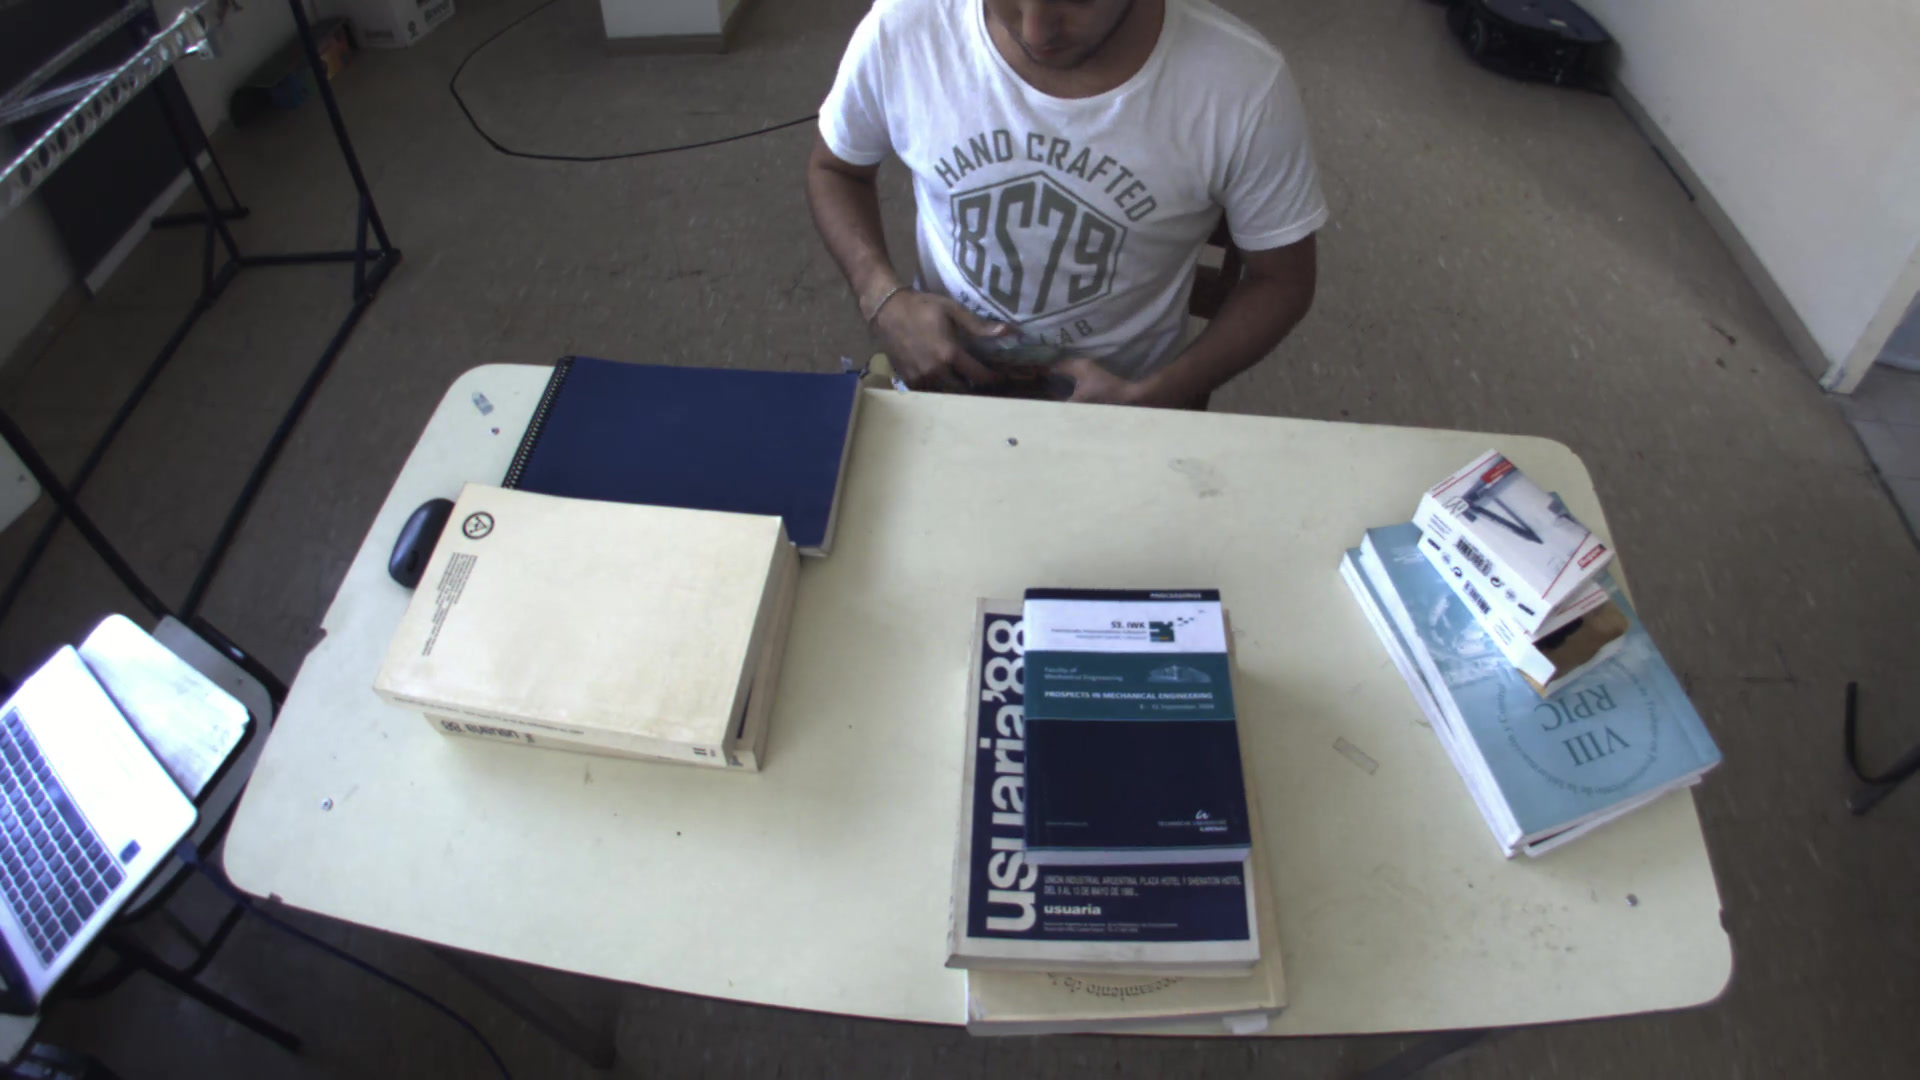hand: (862, 278, 986, 392)
